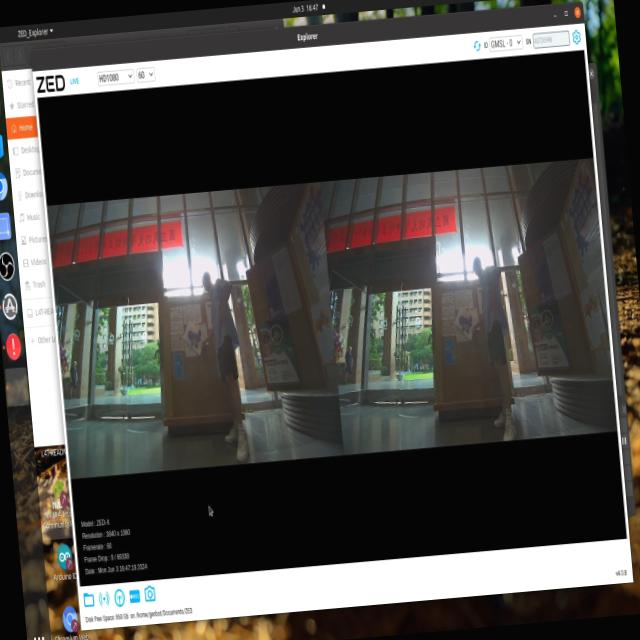blue: (446, 302, 476, 338), (188, 324, 206, 356)
